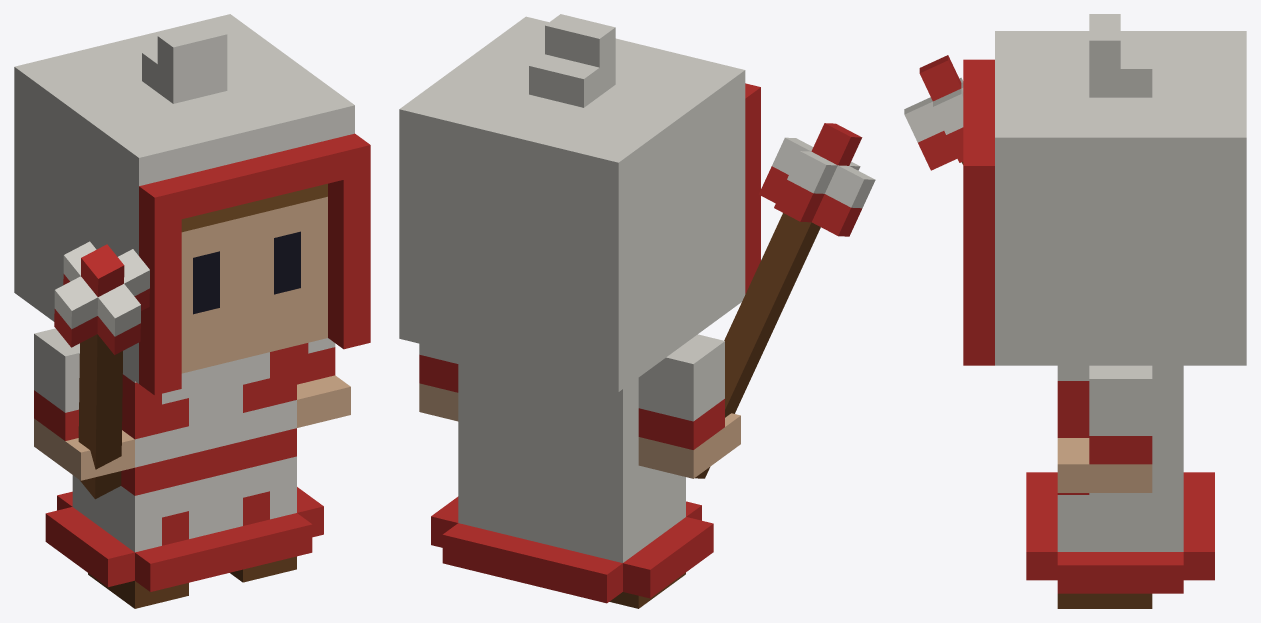
Rendered from h1-voxel.glb.
The picture shows the model from 3 angles, left to right: view 1: azimuth 30°, elevation 25°; view 2: azimuth 150°, elevation 25°; view 3: azimuth 270°, elevation 25°; orthographic projection.
Visible parts, largest first — view 1: head, hips, weapon, torso, arm_R, arm_L, leg_R, leg_L; view 2: head, hips, weapon, torso, arm_R, arm_L; view 3: head, hips, arm_L, torso, weapon, leg_L.
Boxes of the visible parts, x1,y1,x2,y2 form: head: (14,14,370,395); hips: (45,428,323,591); weapon: (54,241,149,499); torso: (122,345,296,467); arm_R: (34,328,134,480); arm_L: (297,338,350,427); leg_R: (88,573,188,608); leg_L: (230,556,296,582); head: (399,14,760,391); hips: (431,437,713,603); weapon: (695,123,875,478); torso: (458,353,638,476); arm_R: (638,334,740,478); arm_L: (419,343,458,421); head: (963,14,1246,365); hips: (1026,466,1214,593); arm_L: (1057,365,1152,492); torso: (1057,365,1183,466); weapon: (904,55,963,170); leg_L: (1057,593,1152,608).
Bounding box in the file's own units: 3.18 × 4.75 × 2.72.
